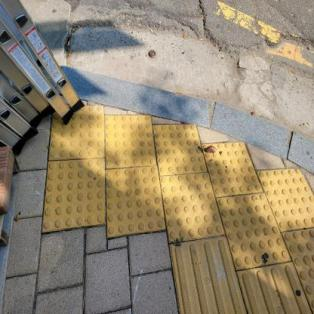Podoctatil: (36, 82, 314, 314)
